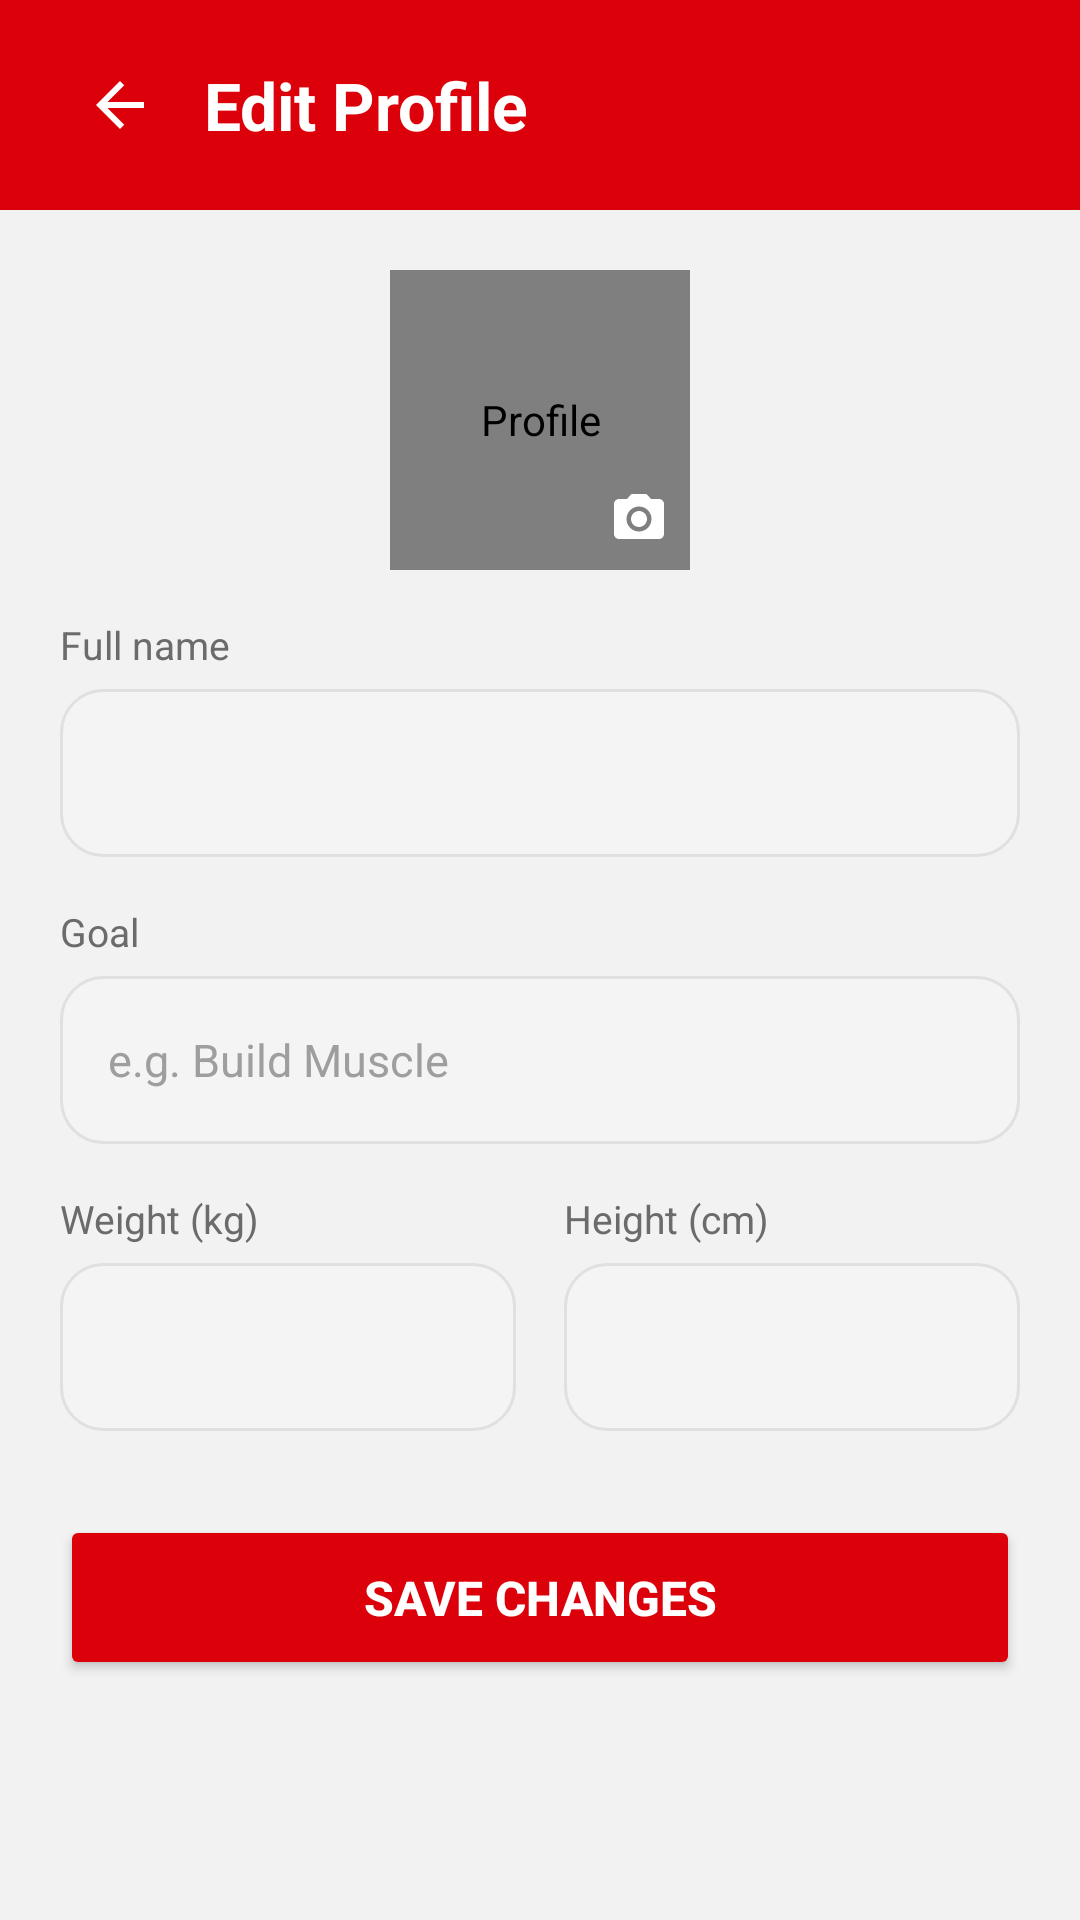

Screen size 1080x1920. Icon name, then its center in pixels as point (x, y):
Back: point (120, 105)
Change photo: point (639, 516)
